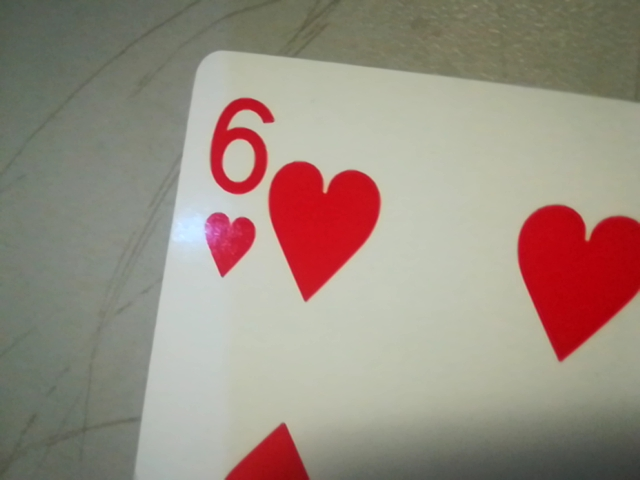hx 6: (192, 86, 269, 288)
